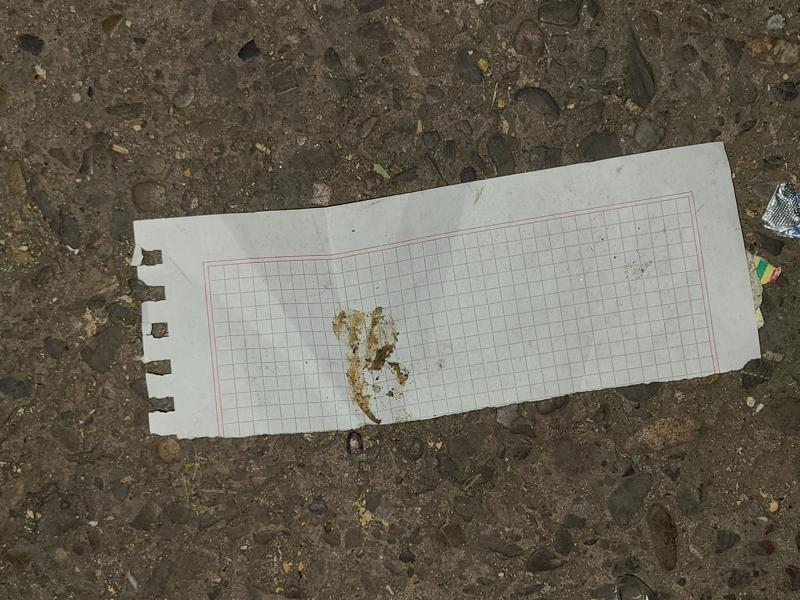papel: (130, 142, 763, 441)
